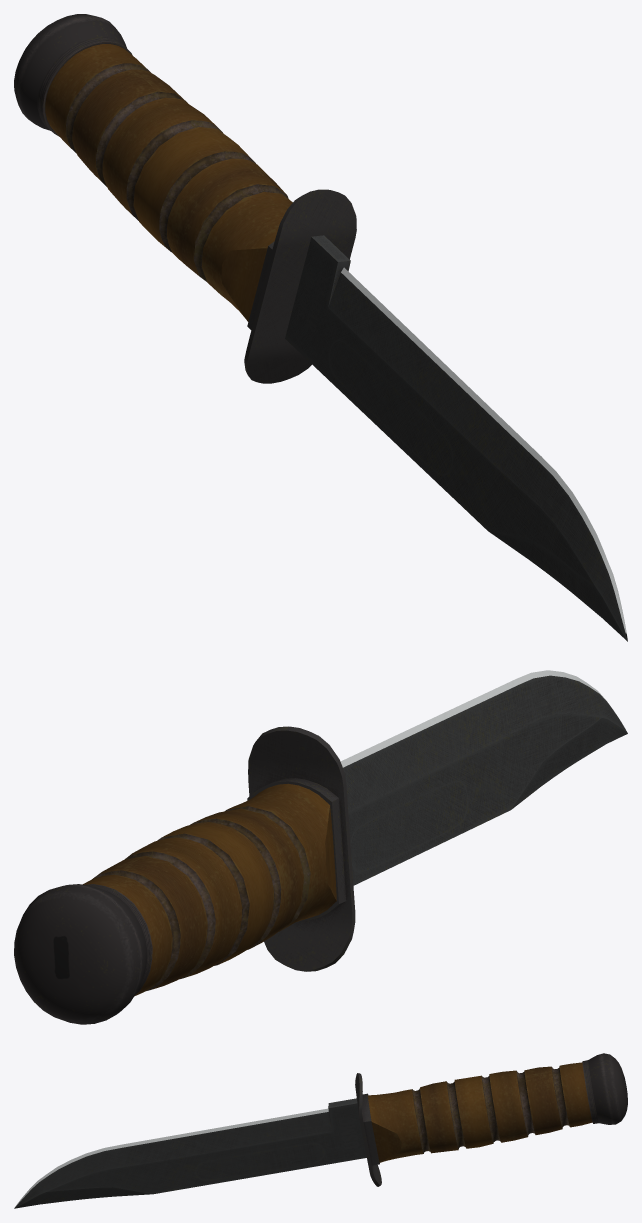
The model's file is knife.gltf.
The picture shows the model from 3 angles, top to bottom: view 1: azimuth 30°, elevation 25°; view 2: azimuth 150°, elevation 25°; view 3: azimuth 270°, elevation 25°; orthographic projection. The views are drawn at different scales.
Parts seen in each view (by area): view 1: Object_2; view 2: Object_2; view 3: Object_2.
Part boxes in pixels (<box>): Object_2: <box>14,14,627,641</box>; Object_2: <box>14,670,627,1024</box>; Object_2: <box>14,1053,627,1208</box>.
Bounding box in the file's own units: 0.0386 × 0.077 × 0.3.
Materials: 1 (1 with a texture image).
